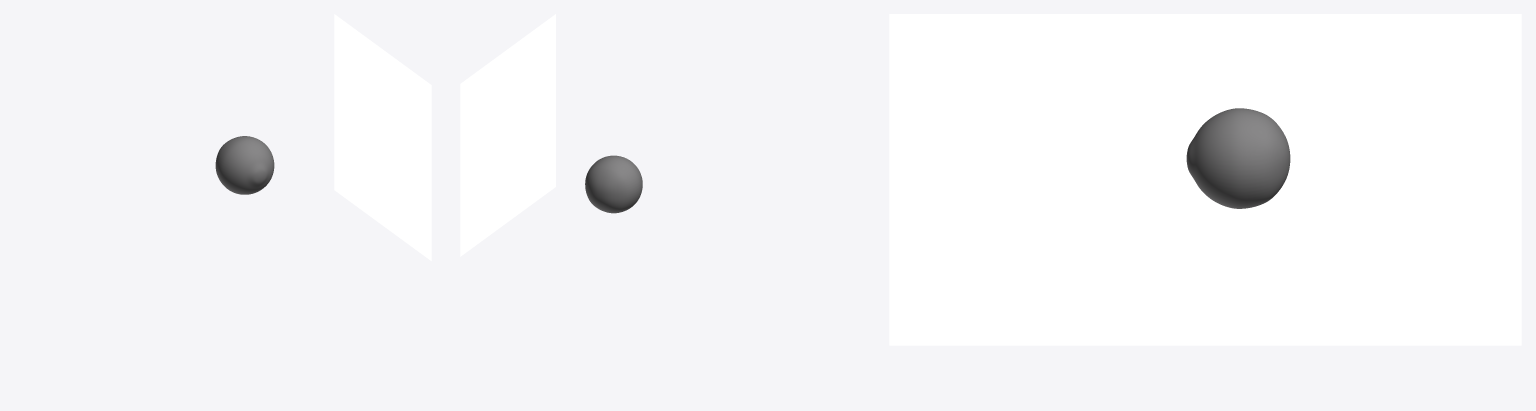
The picture shows the model from 3 angles, left to right: view 1: azimuth 30°, elevation 25°; view 2: azimuth 150°, elevation 25°; view 3: azimuth 270°, elevation 25°; orthographic projection. The views are drawn at different scales.
Visible parts, largest first — view 1: EyeReflector_Side, Cornea_Mesh; view 2: EyeReflector_Side, Cornea_Mesh; view 3: EyeReflector_Bot, Cornea_Mesh.
Part boxes in pixels (left/top/right/bottom): EyeReflector_Side: left=334, top=14, right=431, bottom=260; Cornea_Mesh: left=215, top=136, right=274, bottom=194; EyeReflector_Side: left=460, top=14, right=555, bottom=256; Cornea_Mesh: left=585, top=155, right=642, bottom=213; EyeReflector_Bot: left=889, top=14, right=1521, bottom=345; Cornea_Mesh: left=1186, top=108, right=1290, bottom=208.
Bounding box in the file's own units: 1.61 × 1.35 × 1.9.
4 materials, 3 textured.
